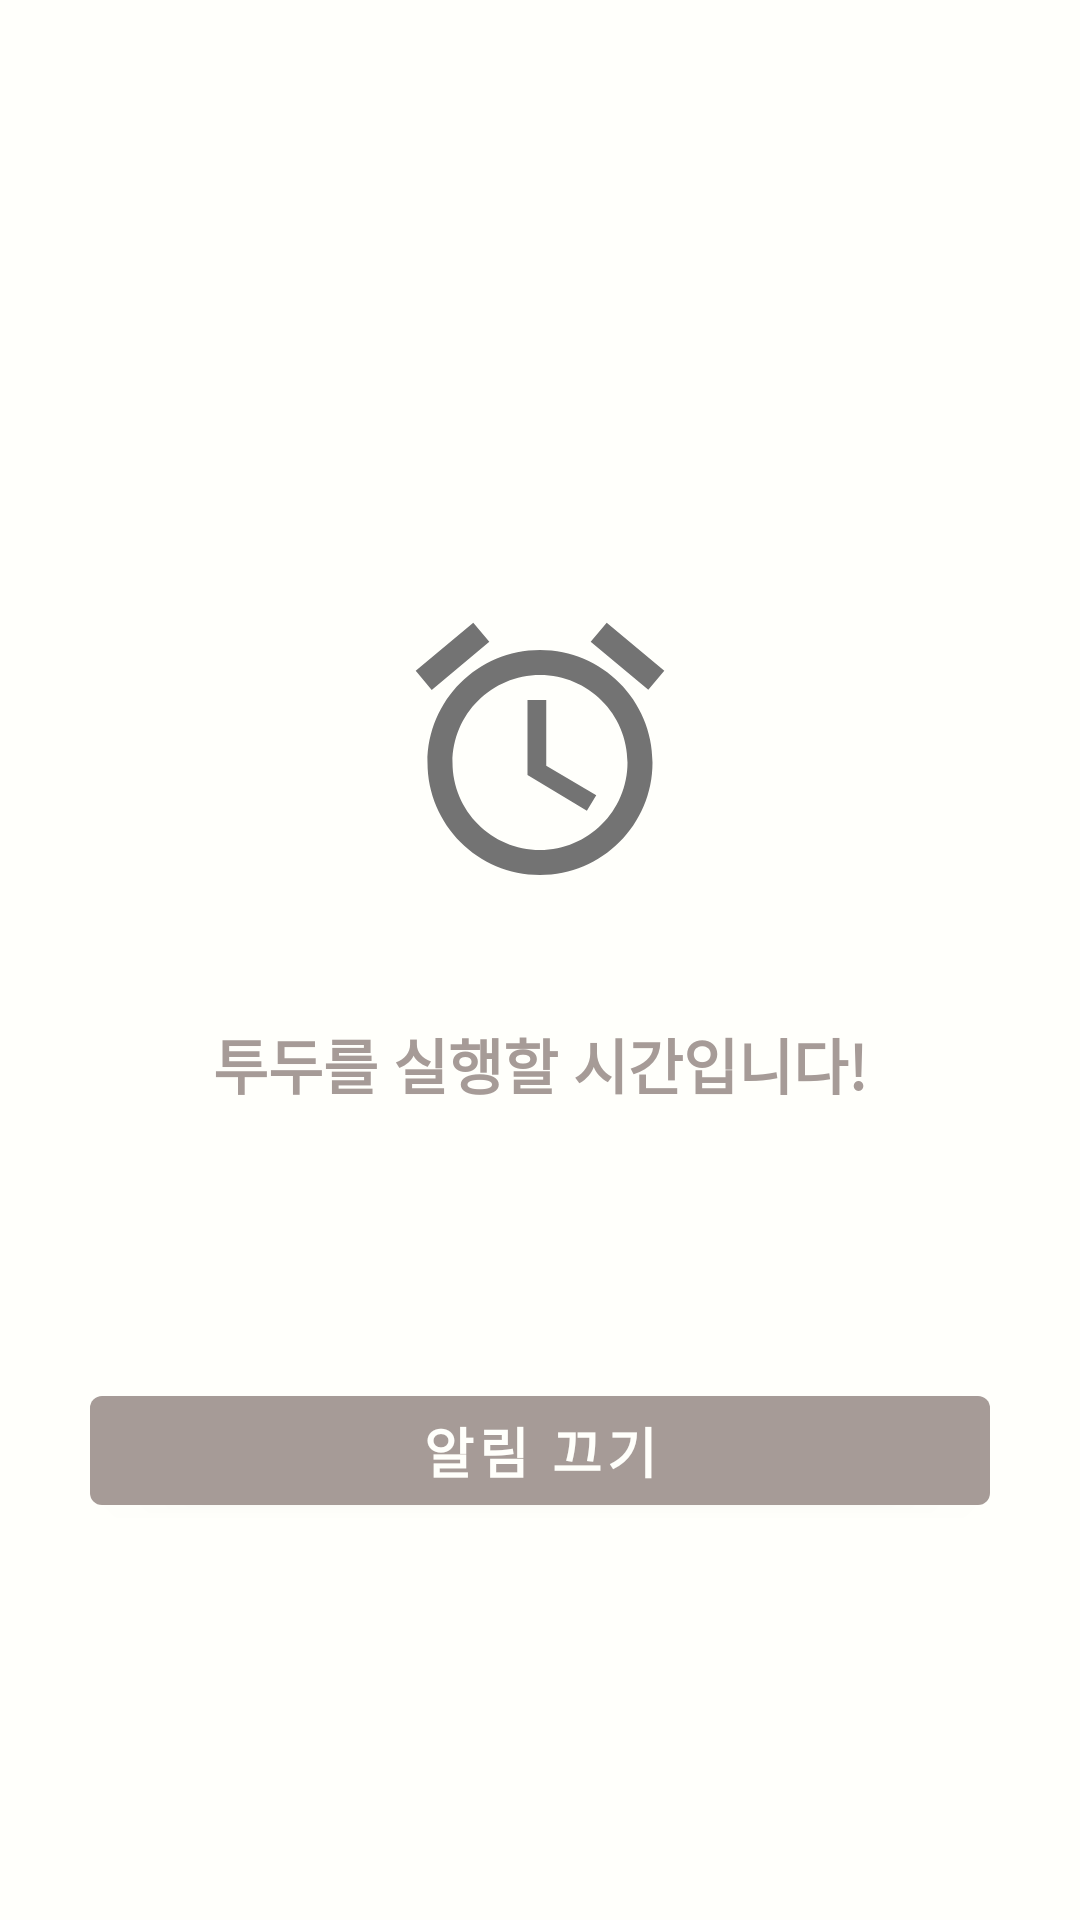

Named icons in this screenshot (1080x1920) and their bounding boxes, (x1,y1,x2,y2):
alarm: (416,623,664,875)
